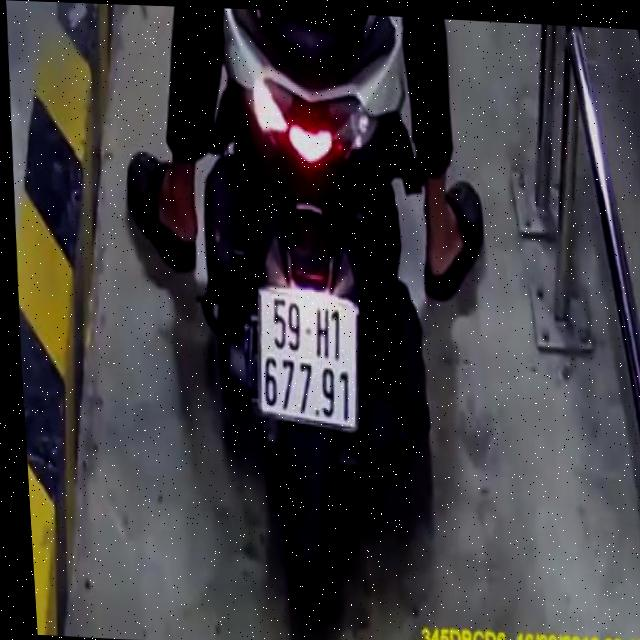motorcycle: (182, 7, 447, 602)
plate: (238, 276, 370, 432)
